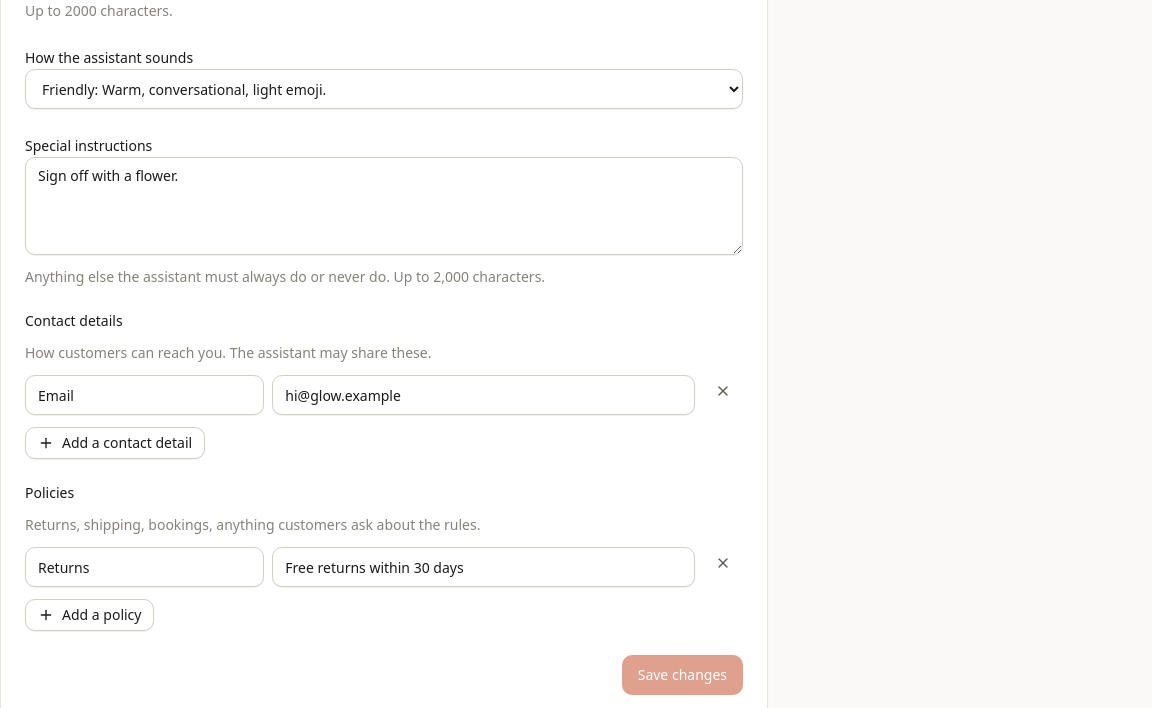
Test: business profile › adds, edits and removes contact details and policies
(page scrolled)
Click the button "Add a contact detail" at (115, 443), box x1=25 y1=427 x2=205 y2=459
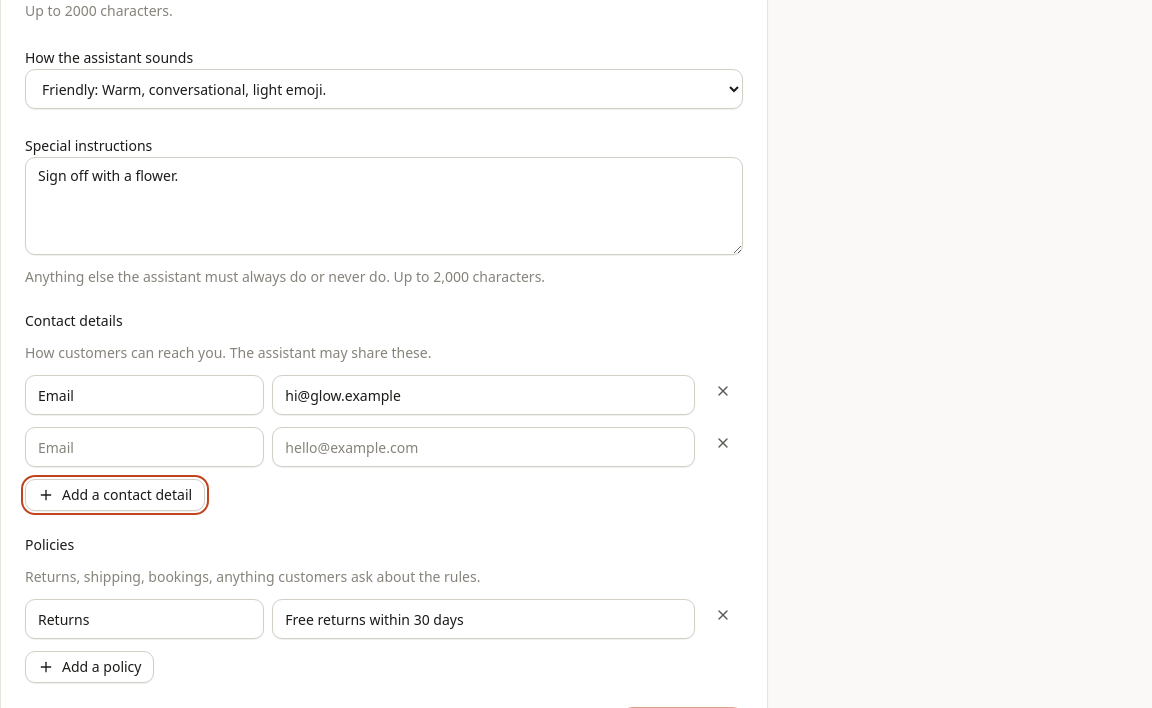
Type "Phone" into the field named "Contact detail 2 name" at (145, 447), box x1=25 y1=427 x2=264 y2=467
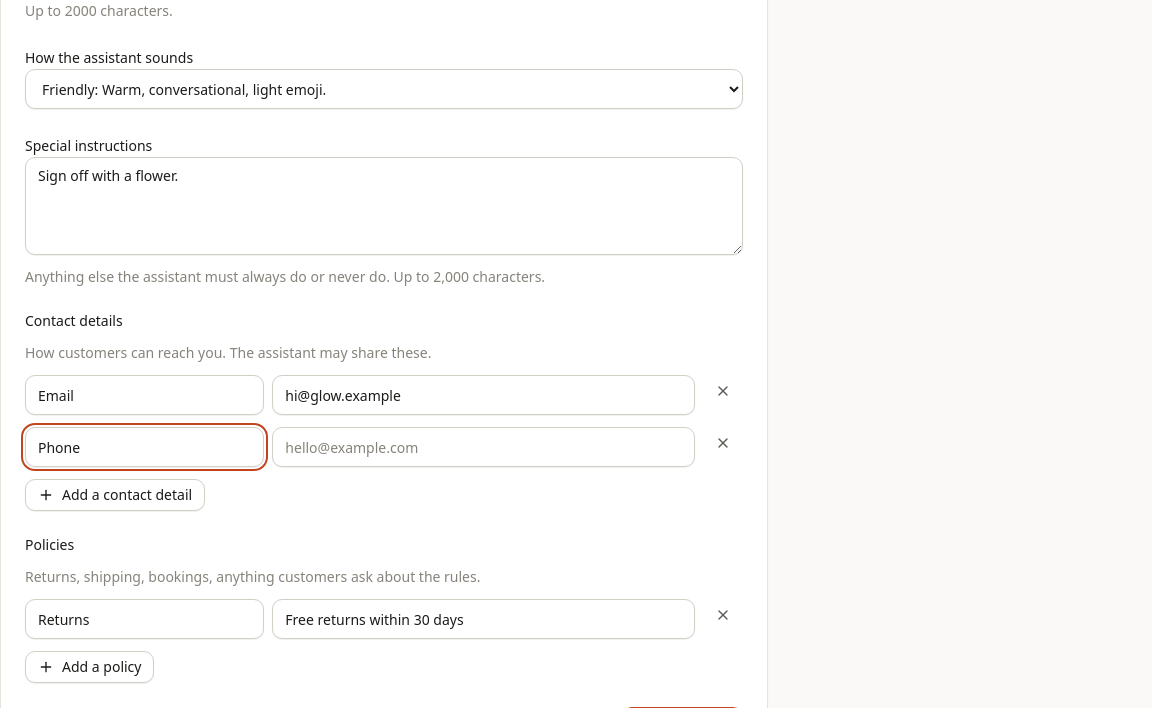
Type "+91 99999 00000" into the field named "Contact detail 2 value" at (484, 447), box x1=272 y1=427 x2=695 y2=467
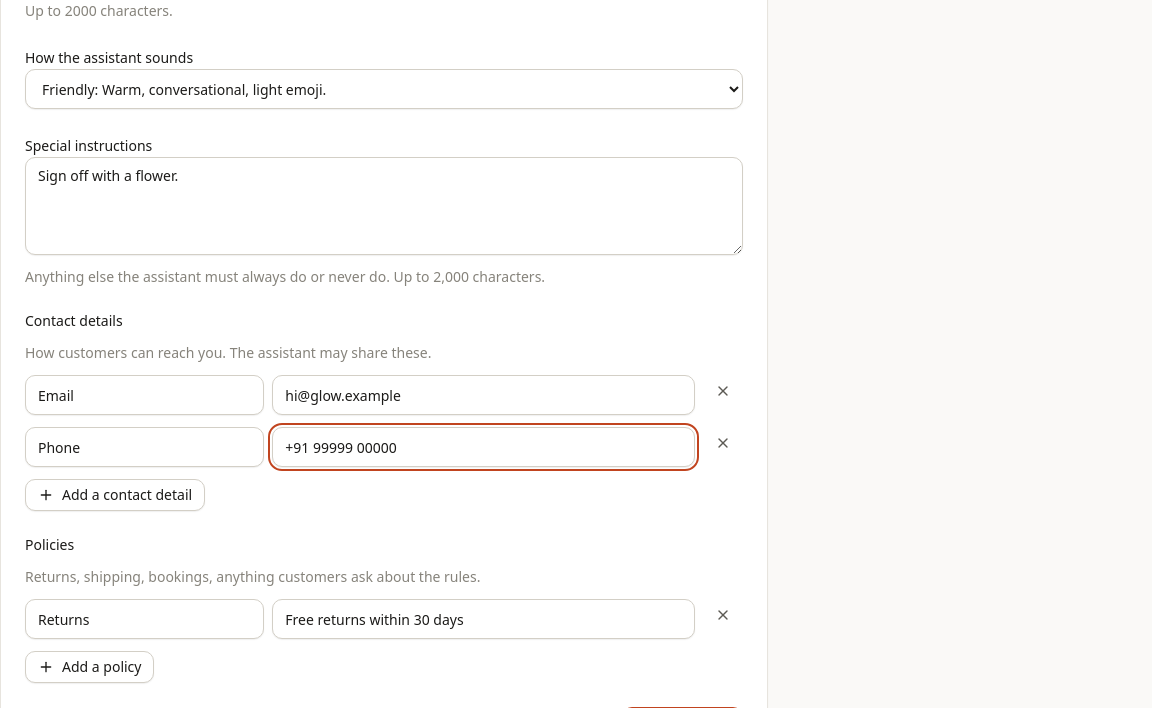
Click the button named "Remove policy 1" at (723, 615), box x1=703 y1=599 x2=743 y2=631
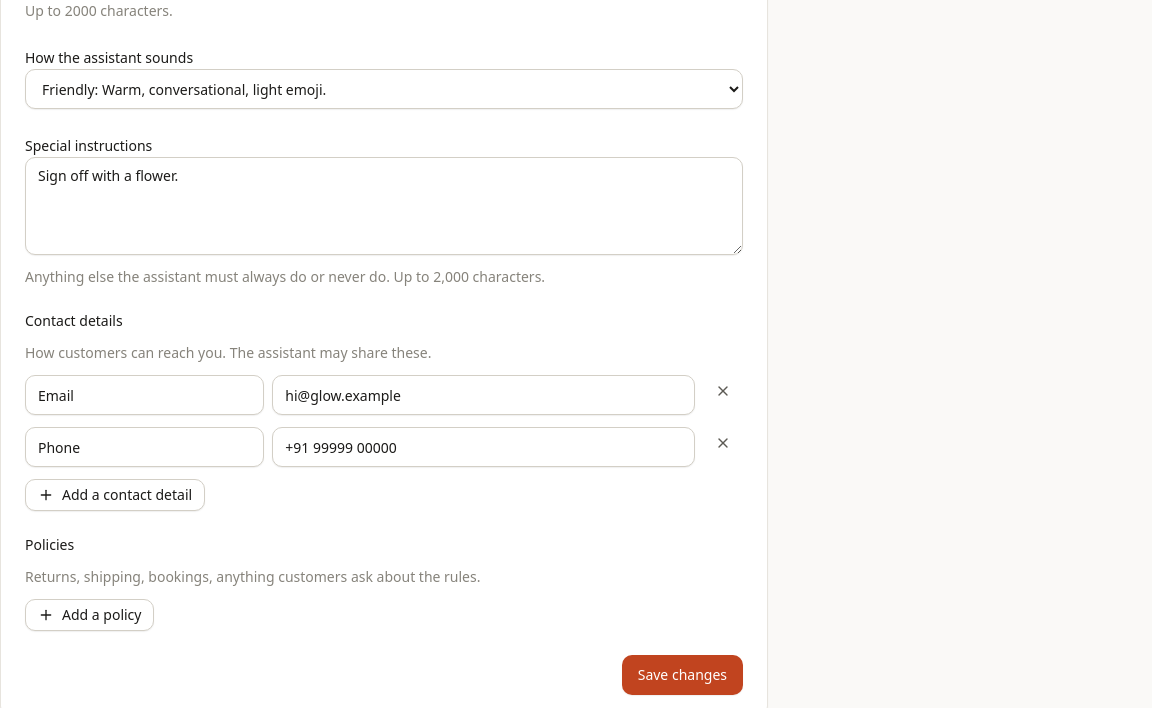
Click the button "Save changes" at (682, 675), box x1=622 y1=655 x2=743 y2=695
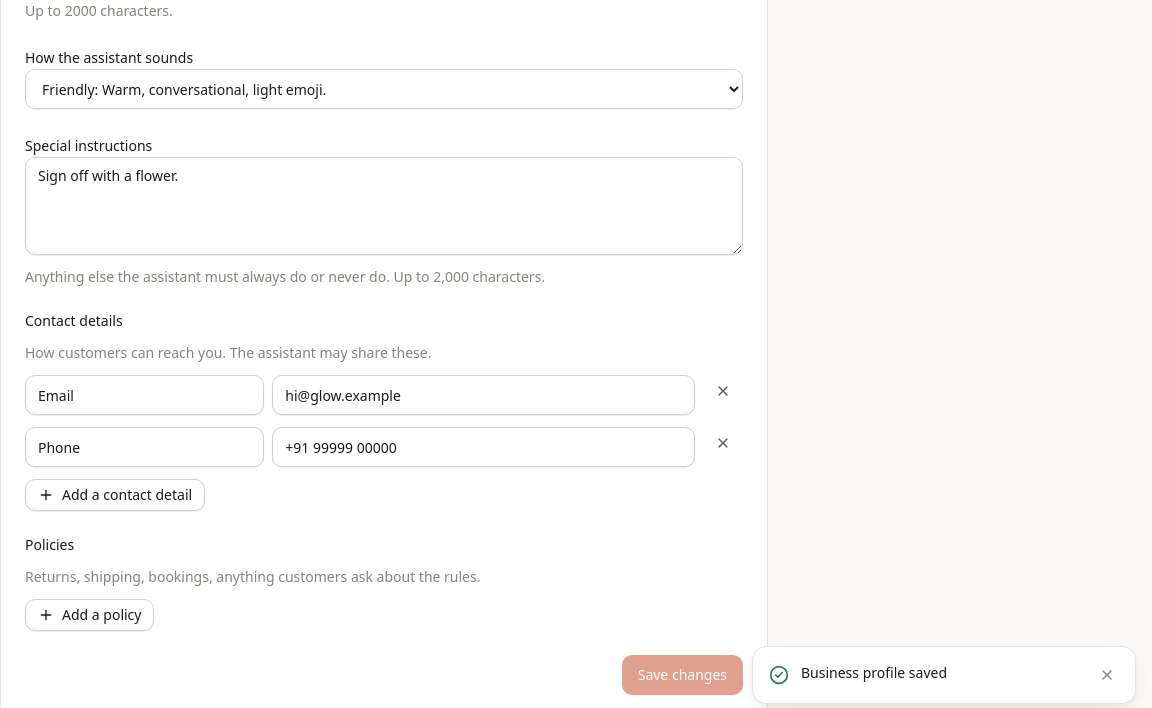
expect the text "Business profile saved" is shown: met, box x1=801 y1=663 x2=947 y2=682
